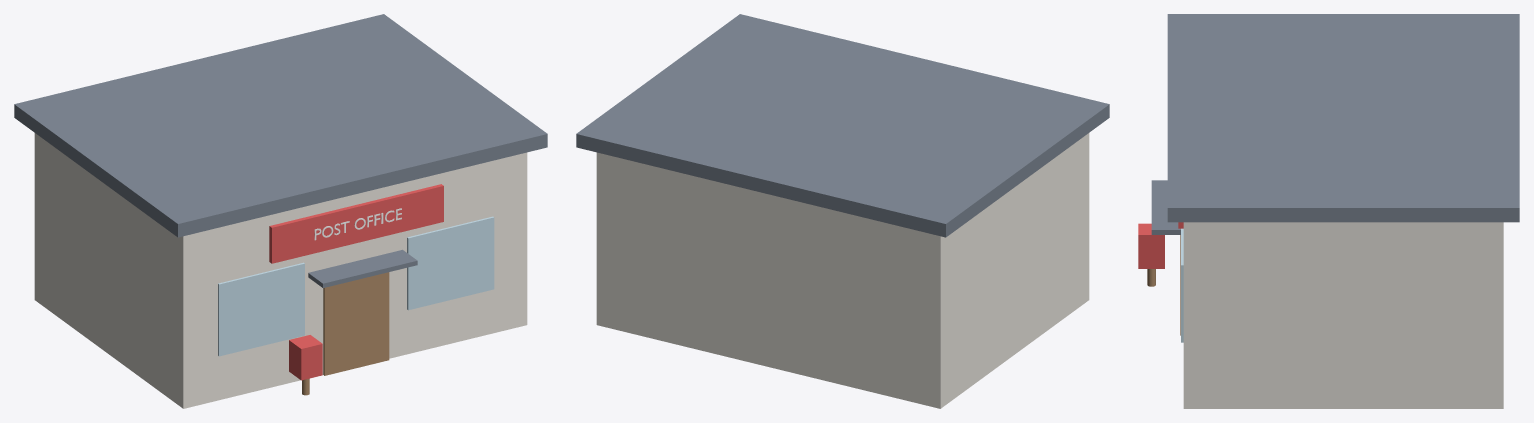
File: Oficina_de_correos.fbx
The picture shows the model from 3 angles, left to right: view 1: azimuth 30°, elevation 25°; view 2: azimuth 150°, elevation 25°; view 3: azimuth 270°, elevation 25°; orthographic projection. The views are drawn at different scales.
Parts seen in each view (by area): view 1: Puerta_Principal; view 2: Puerta_Principal; view 3: Puerta_Principal.
Part boxes in pixels (box(x1,y1,x2,y2)): Puerta_Principal: box(14, 14, 547, 408); Puerta_Principal: box(576, 14, 1109, 408); Puerta_Principal: box(1138, 14, 1519, 408).
Size of the model in its own units: 860 by 430 by 715.
